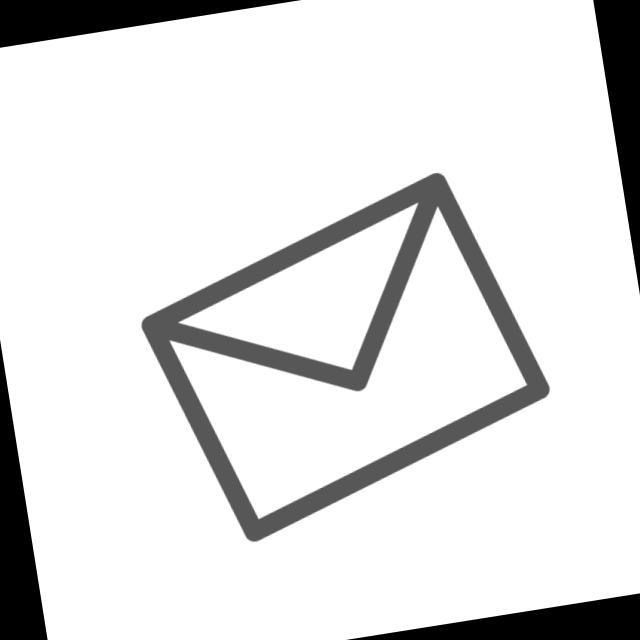letter: (123, 156, 572, 560)
